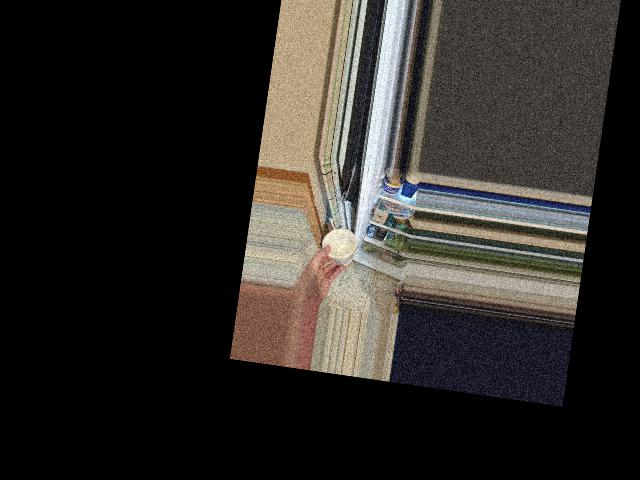cotage: (324, 222, 359, 262)
